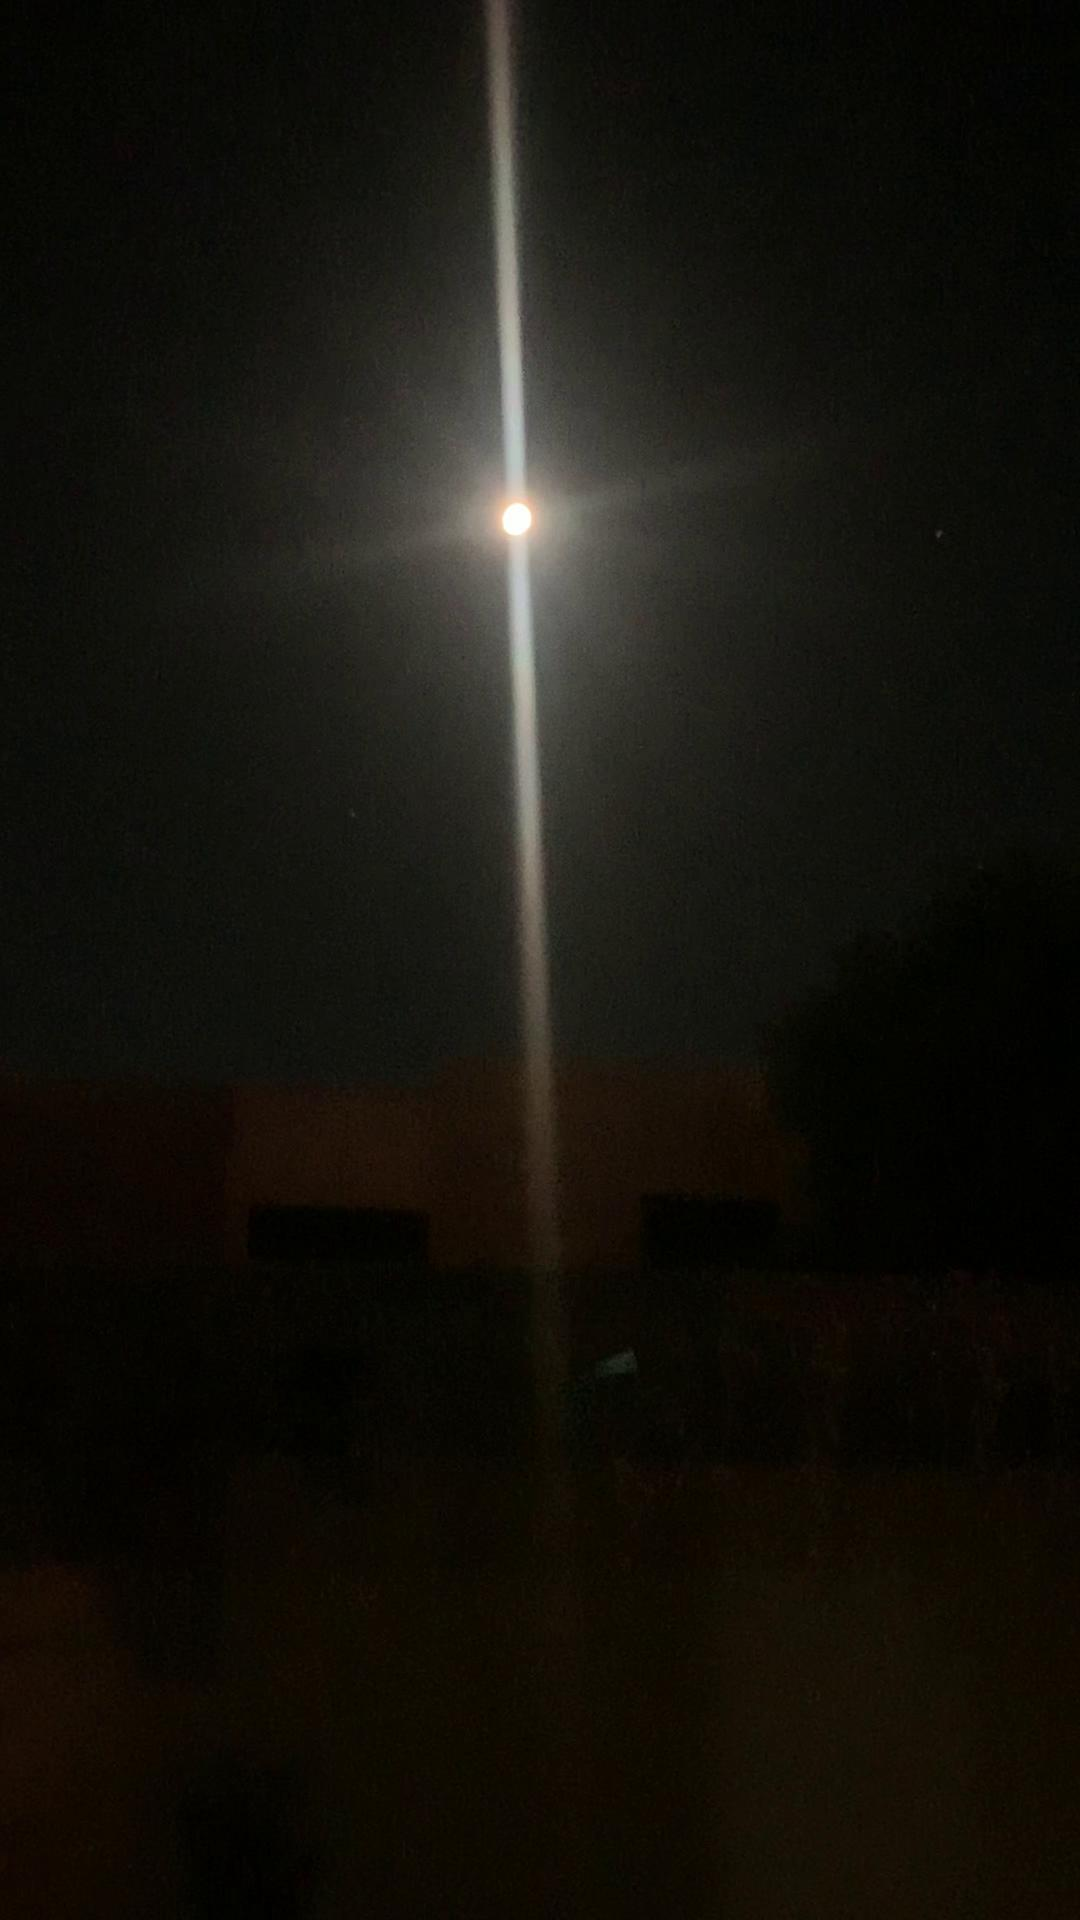moon: (456, 482, 564, 581)
